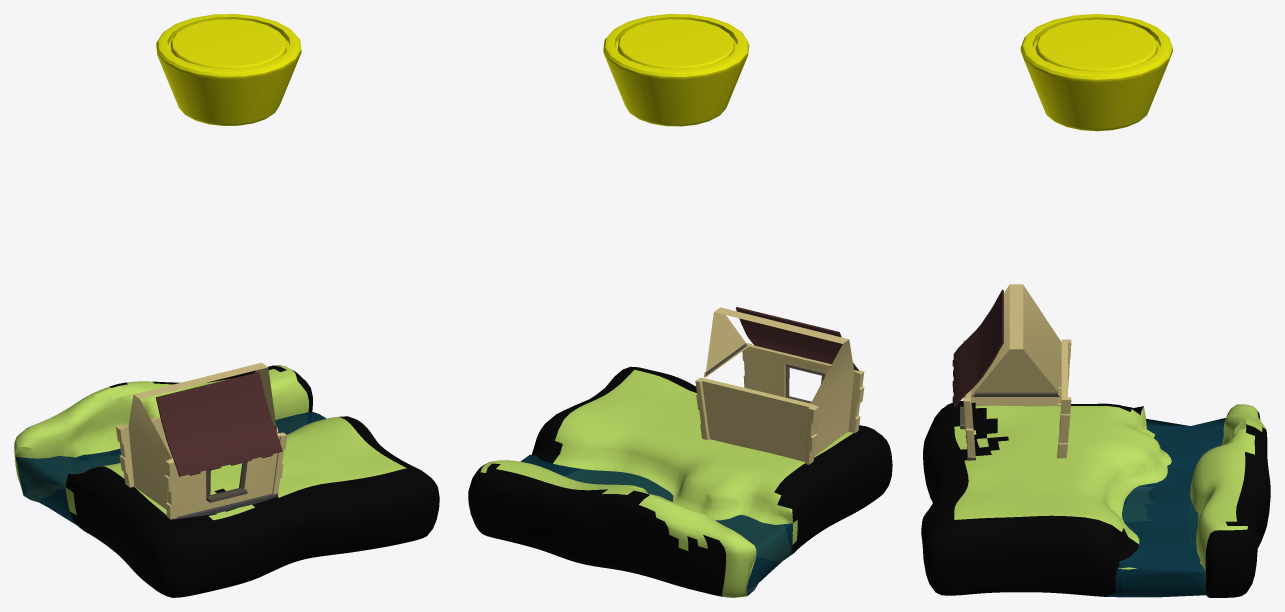
The model's file is MappedModels.fbx.
The picture shows the model from 3 angles, left to right: view 1: azimuth 30°, elevation 25°; view 2: azimuth 150°, elevation 25°; view 3: azimuth 270°, elevation 25°; orthographic projection. The views are drawn at different scales.
Visible parts, largest first — view 1: Ground, Cork, House, pPlane1; view 2: Ground, House, Cork, pPlane1; view 3: Ground, Cork, House, pPlane1.
Boxes of the visible parts, box(x1,y1,x2,y2) form: Ground: box(14, 365, 439, 597); Cork: box(156, 14, 301, 125); House: box(116, 362, 287, 519); pPlane1: box(155, 372, 282, 476); Ground: box(468, 366, 892, 597); House: box(695, 307, 864, 464); Cork: box(603, 14, 749, 126); pPlane1: box(735, 307, 859, 370); Ground: box(921, 401, 1270, 597); Cork: box(1020, 14, 1172, 131); House: box(960, 284, 1071, 460); pPlane1: box(952, 289, 1003, 407).
Bounding box in the file's own units: 3.98 × 6.26 × 4.02.
